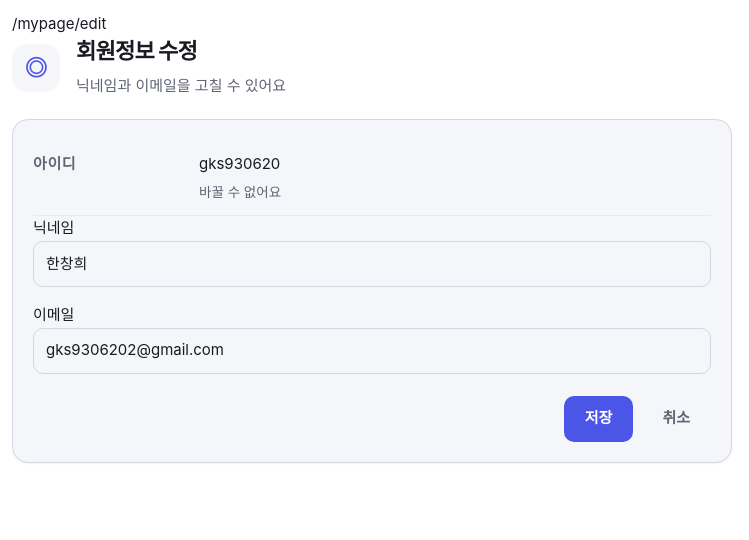
Test: 회원정보 수정 — 검증 (AC-A-07·08·09) › 닉네임이 1자면 저장 요청이 나가지 않는다
The width and height of the screenshot is (749, 540).
Replace the text in the field labelled "닉네임" with "가" at (372, 264), box [33, 241, 711, 287]
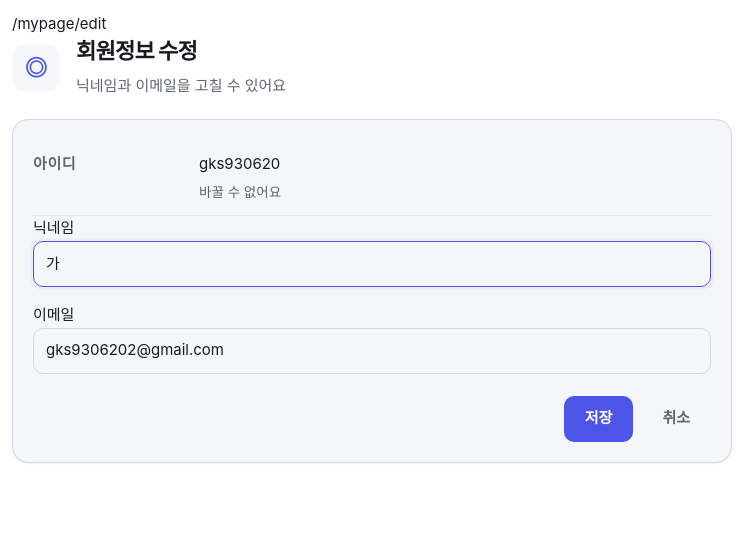
Click the button "저장" at (599, 419), box [564, 396, 633, 442]
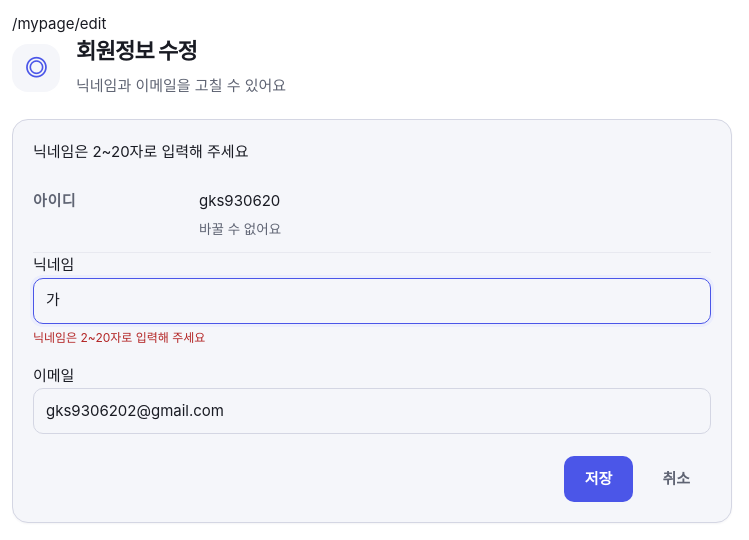
Result: the message "닉네임은 2~20자로 입력해 주세요" is shown at [33, 142, 248, 161]
